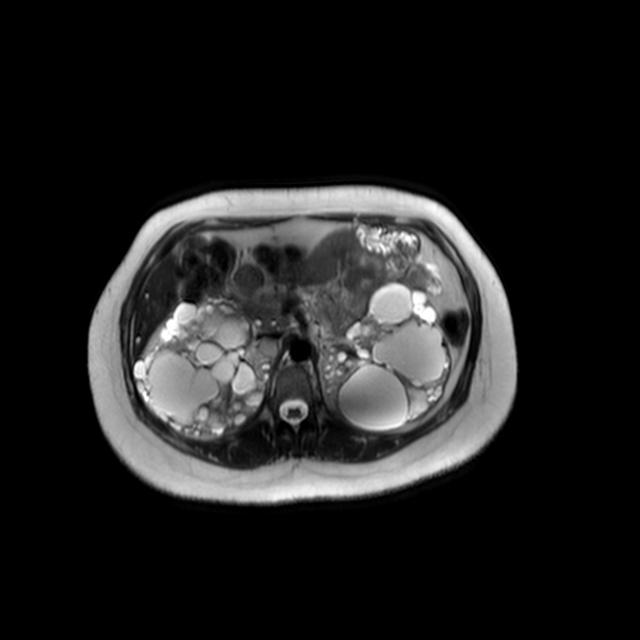sag: (135, 295, 280, 441)
sol: (318, 283, 452, 431)
